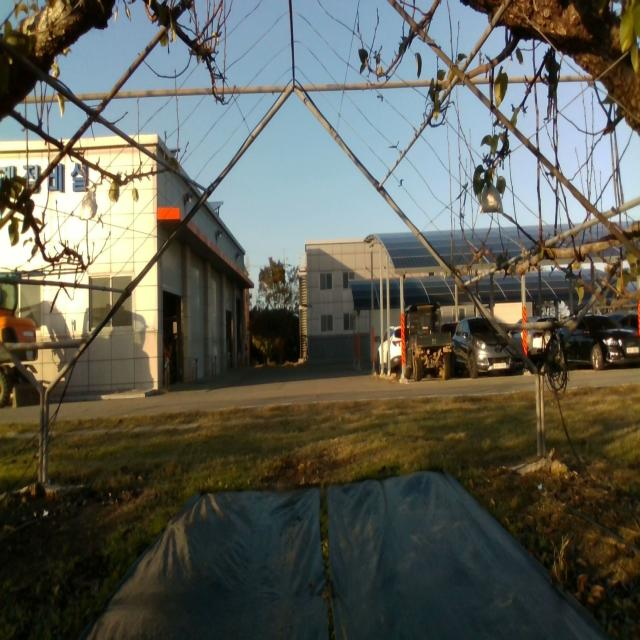pearbags: (478, 182, 504, 218), (79, 190, 97, 222)
